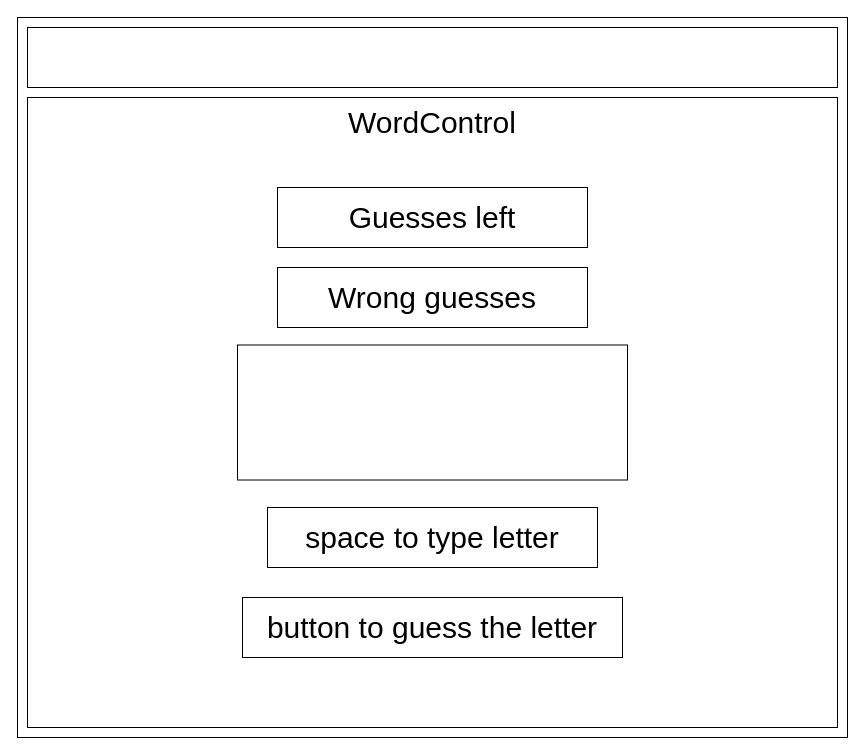
Image size: 865x755. Some labels were removed from this diagram. The shapes that lost their labels are listed below. From the top down, each one's box as (x1, y1, x2, y2) in pixels, then its label:
(26, 26, 838, 88): Header
(236, 344, 628, 480): Where spaces for the word appear and correct letters
